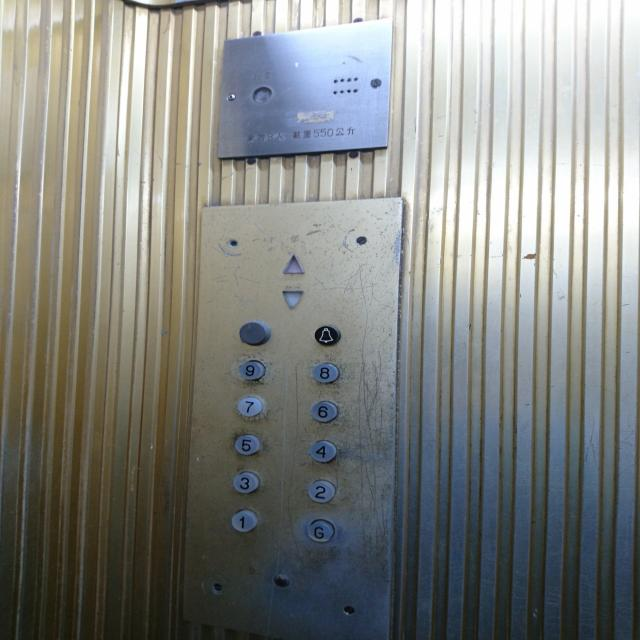1: (230, 508, 259, 534)
2: (306, 480, 336, 503)
3: (231, 470, 260, 494)
4: (309, 438, 337, 462)
5: (234, 433, 262, 456)
6: (310, 399, 338, 422)
7: (236, 395, 264, 418)
8: (311, 361, 340, 384)
9: (238, 358, 267, 383)
G: (306, 518, 336, 543)
alarm: (312, 322, 343, 348)
empty: (238, 319, 273, 347)
